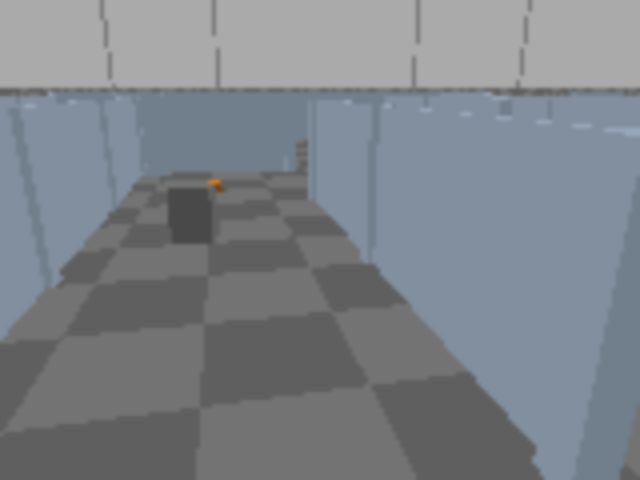obstacle: (166, 183, 219, 244)
